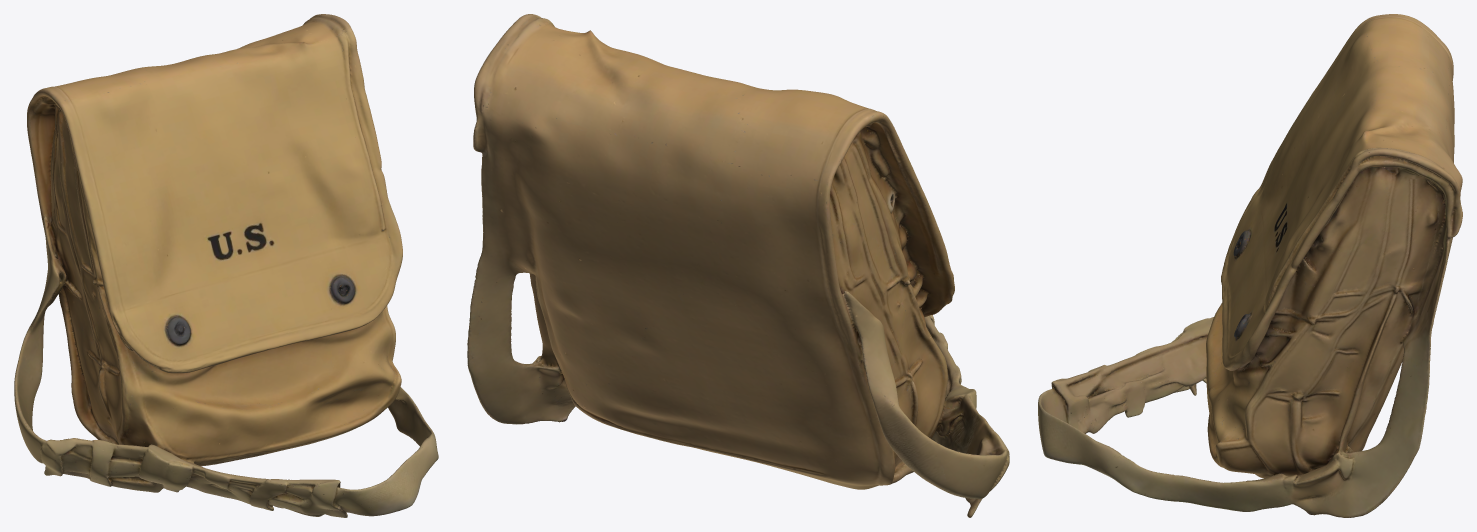
File: Map Case.glb
The picture shows the model from 3 angles, left to right: view 1: azimuth 30°, elevation 25°; view 2: azimuth 150°, elevation 25°; view 3: azimuth 270°, elevation 25°; orthographic projection. The views are drawn at different scales.
Size of the model in its own units: 2 by 1.79 by 1.87.
Materials: 1 (1 with a texture image).
